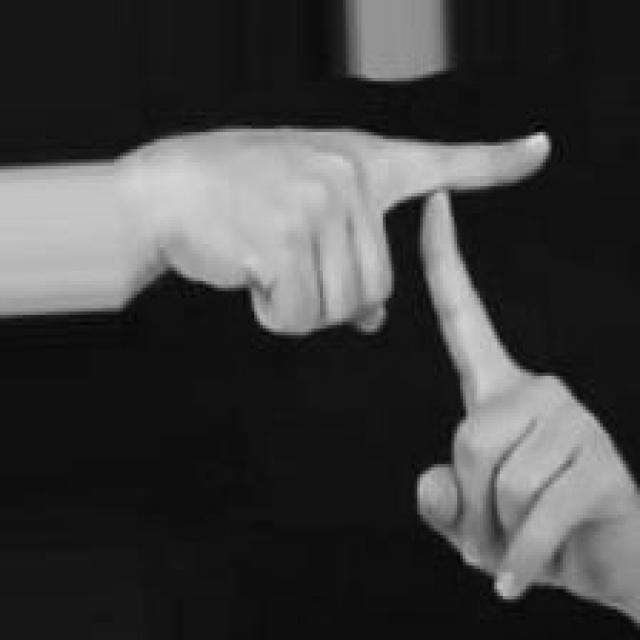T: (123, 118, 640, 610)
